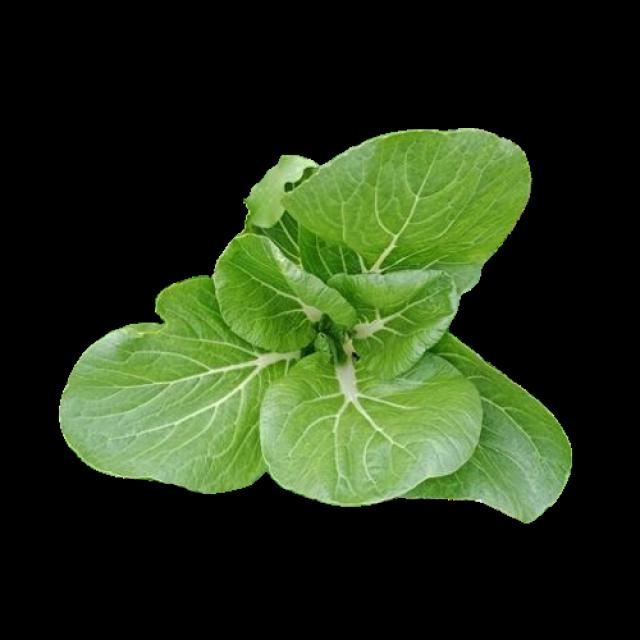healthy: (55, 128, 568, 520)
mature: (57, 131, 571, 522)
